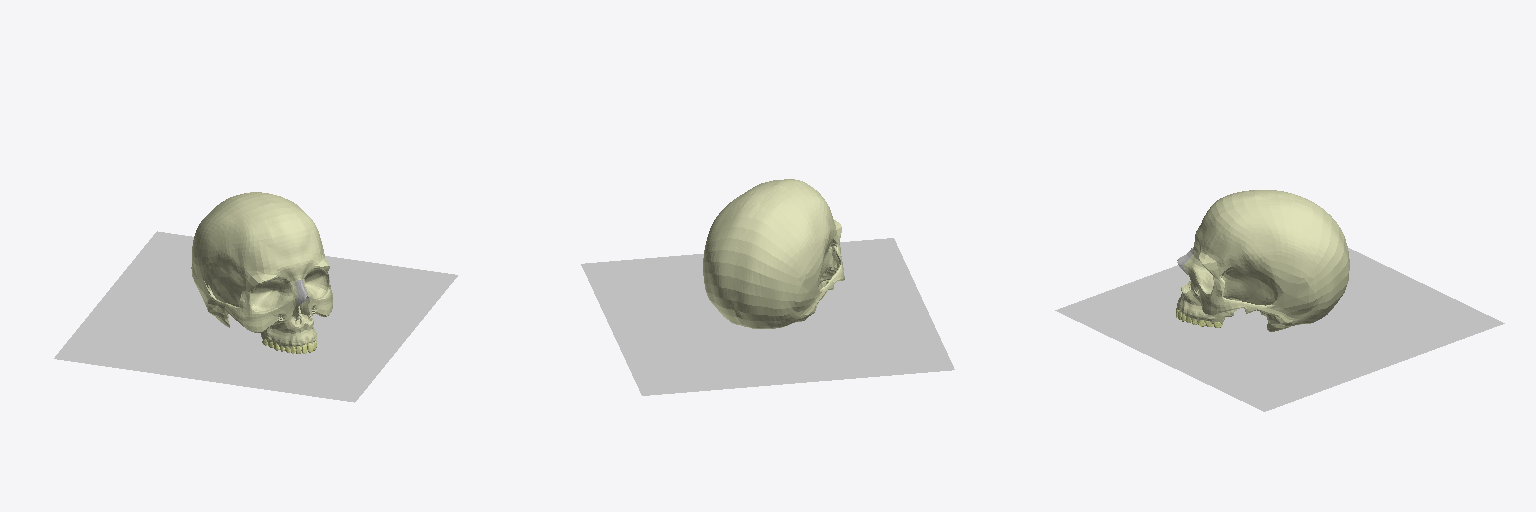
The model's file is skull.obj.
3 views of the same model, side by side, from view 1: azimuth 30°, elevation 25°; view 2: azimuth 150°, elevation 25°; view 3: azimuth 270°, elevation 25° (orthographic).
Parts seen in each view (by area): view 1: Plane_Plane.010, Skul.000_skull.001; view 2: Plane_Plane.010, Skul.000_skull.001; view 3: Plane_Plane.010, Skul.000_skull.001.
Boxes of the visible parts, box(x1,y1,x2,y2) form: Plane_Plane.010: box(54, 231, 457, 402); Skul.000_skull.001: box(191, 192, 332, 353); Plane_Plane.010: box(581, 238, 954, 395); Skul.000_skull.001: box(703, 179, 844, 328); Plane_Plane.010: box(1055, 248, 1504, 411); Skul.000_skull.001: box(1176, 190, 1349, 331).
Size of the model in its own units: 23.15 by 6.94 by 23.15.